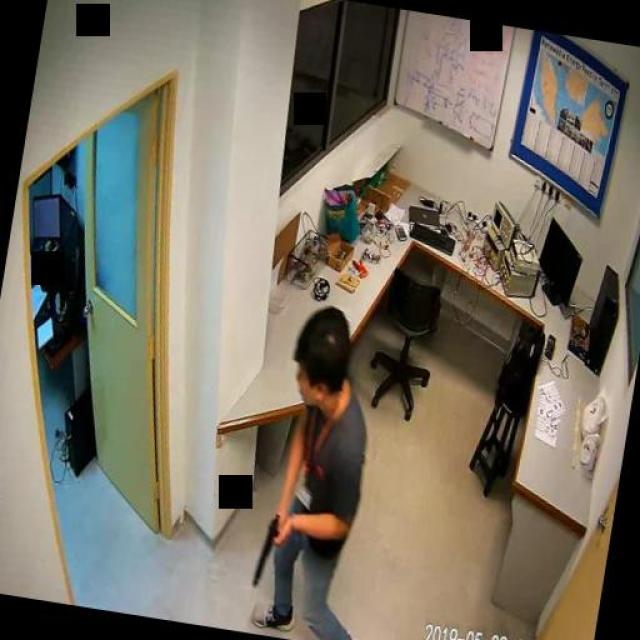gun: (249, 509, 281, 589)
